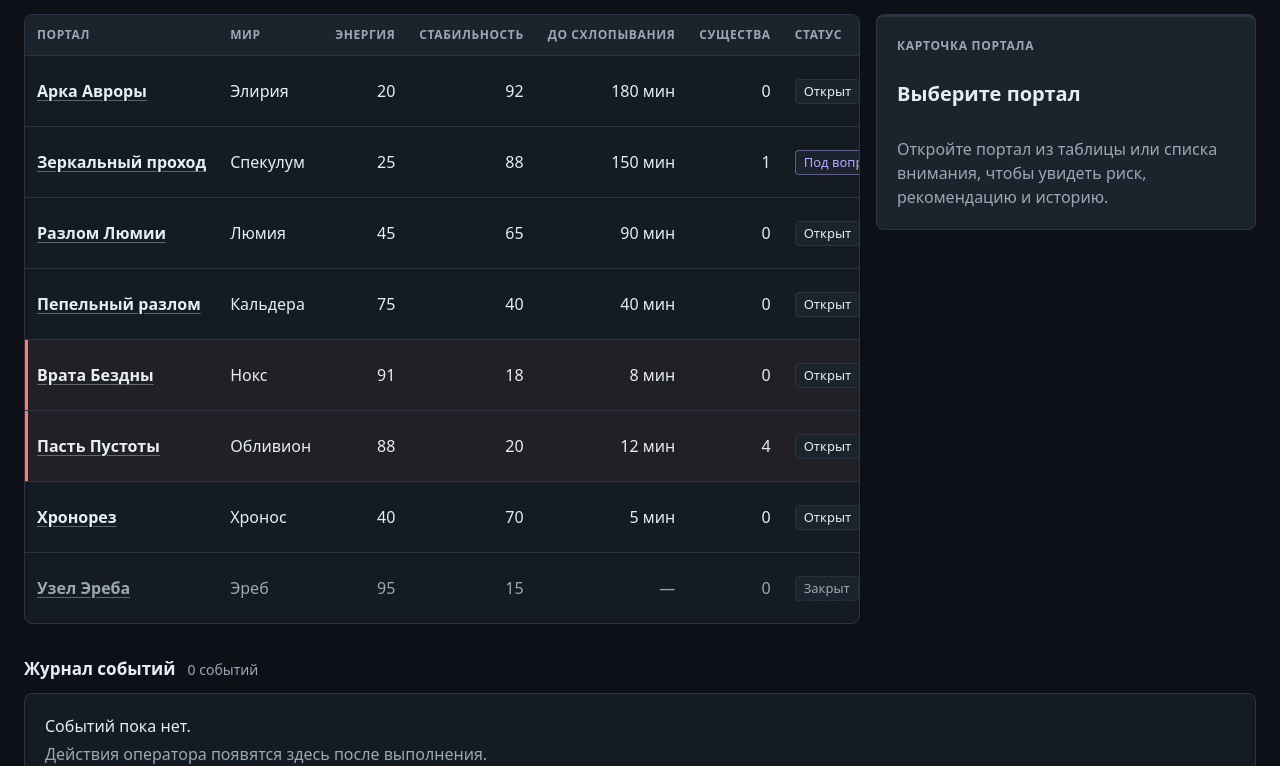
it: Выбор портала и карточка › «Врата Бездны»: причины из calculateRisk, три фактора и рекомендация закрыть
(page scrolled)
Click the button "Врата Бездны": click(95, 375) 37,363 -> 154,387
(page scrolled)
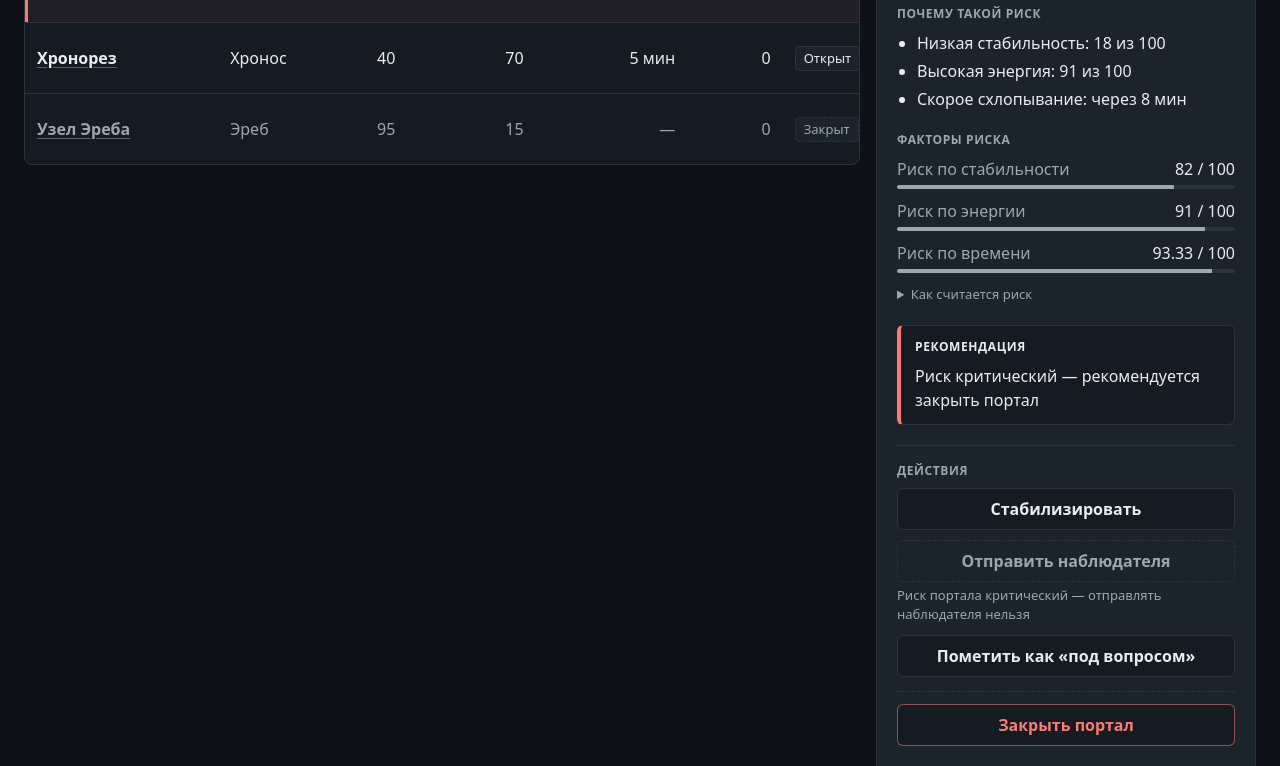
Expected: the element "Рекомендация" shows "Риск критический — рекомендуется закрыть портал", 915,365 -> 1200,411
Expected: the element "Рекомендация" shows "закры", 915,365 -> 1200,411
